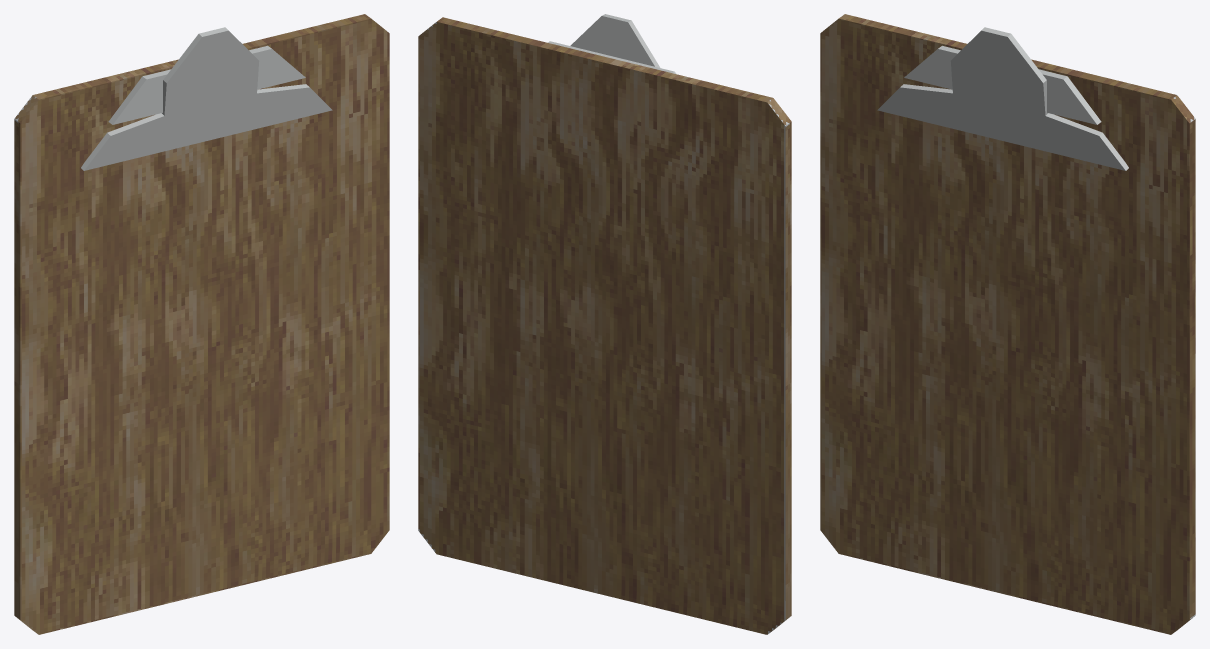
File: Clipboard.glb
The picture shows the model from 3 angles, left to right: view 1: azimuth 30°, elevation 25°; view 2: azimuth 150°, elevation 25°; view 3: azimuth 330°, elevation 25°; orthographic projection.
Parts seen in each view (by area): view 1: pCube4; view 2: pCube4; view 3: pCube4.
Boxes of the visible parts, left/top/right/bottom form: pCube4: left=14, top=14, right=389, bottom=634; pCube4: left=418, top=14, right=791, bottom=634; pCube4: left=820, top=14, right=1195, bottom=634.
Size of the model in its own units: 0.5884 by 0.8664 by 0.0459.
1 material, 1 textured.
